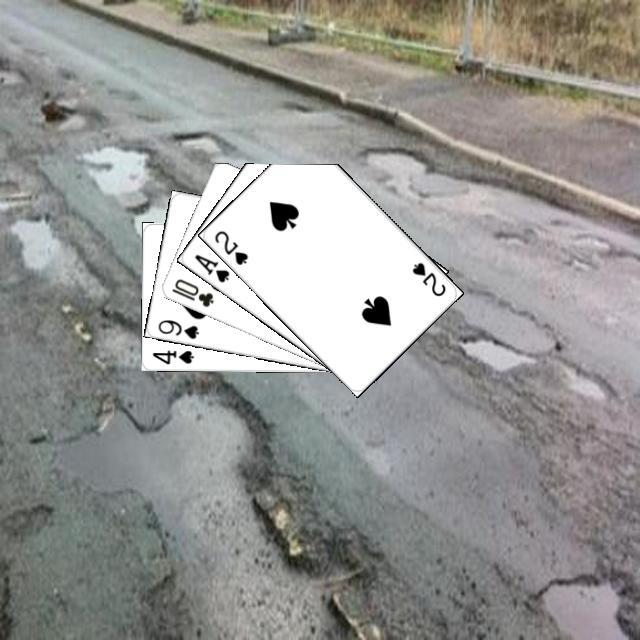10c: (167, 274, 215, 309)
2s: (209, 226, 250, 267), (407, 257, 448, 298)
4s: (148, 345, 195, 366)
9s: (153, 315, 200, 341)
As: (189, 249, 231, 284)
